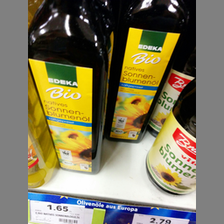oil: (29, 1, 108, 174), (107, 3, 185, 143)
